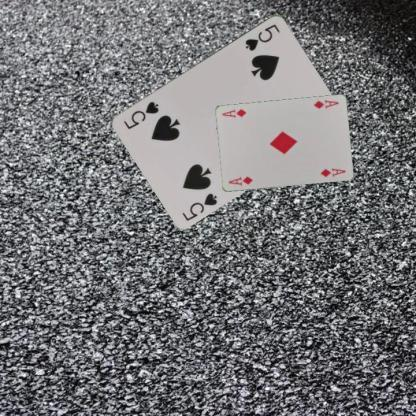5s: (180, 189, 220, 222), (242, 21, 282, 52)
Ad: (311, 96, 340, 110), (226, 174, 254, 188)
